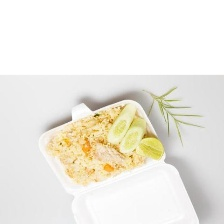foam_box: (32, 92, 202, 224)
